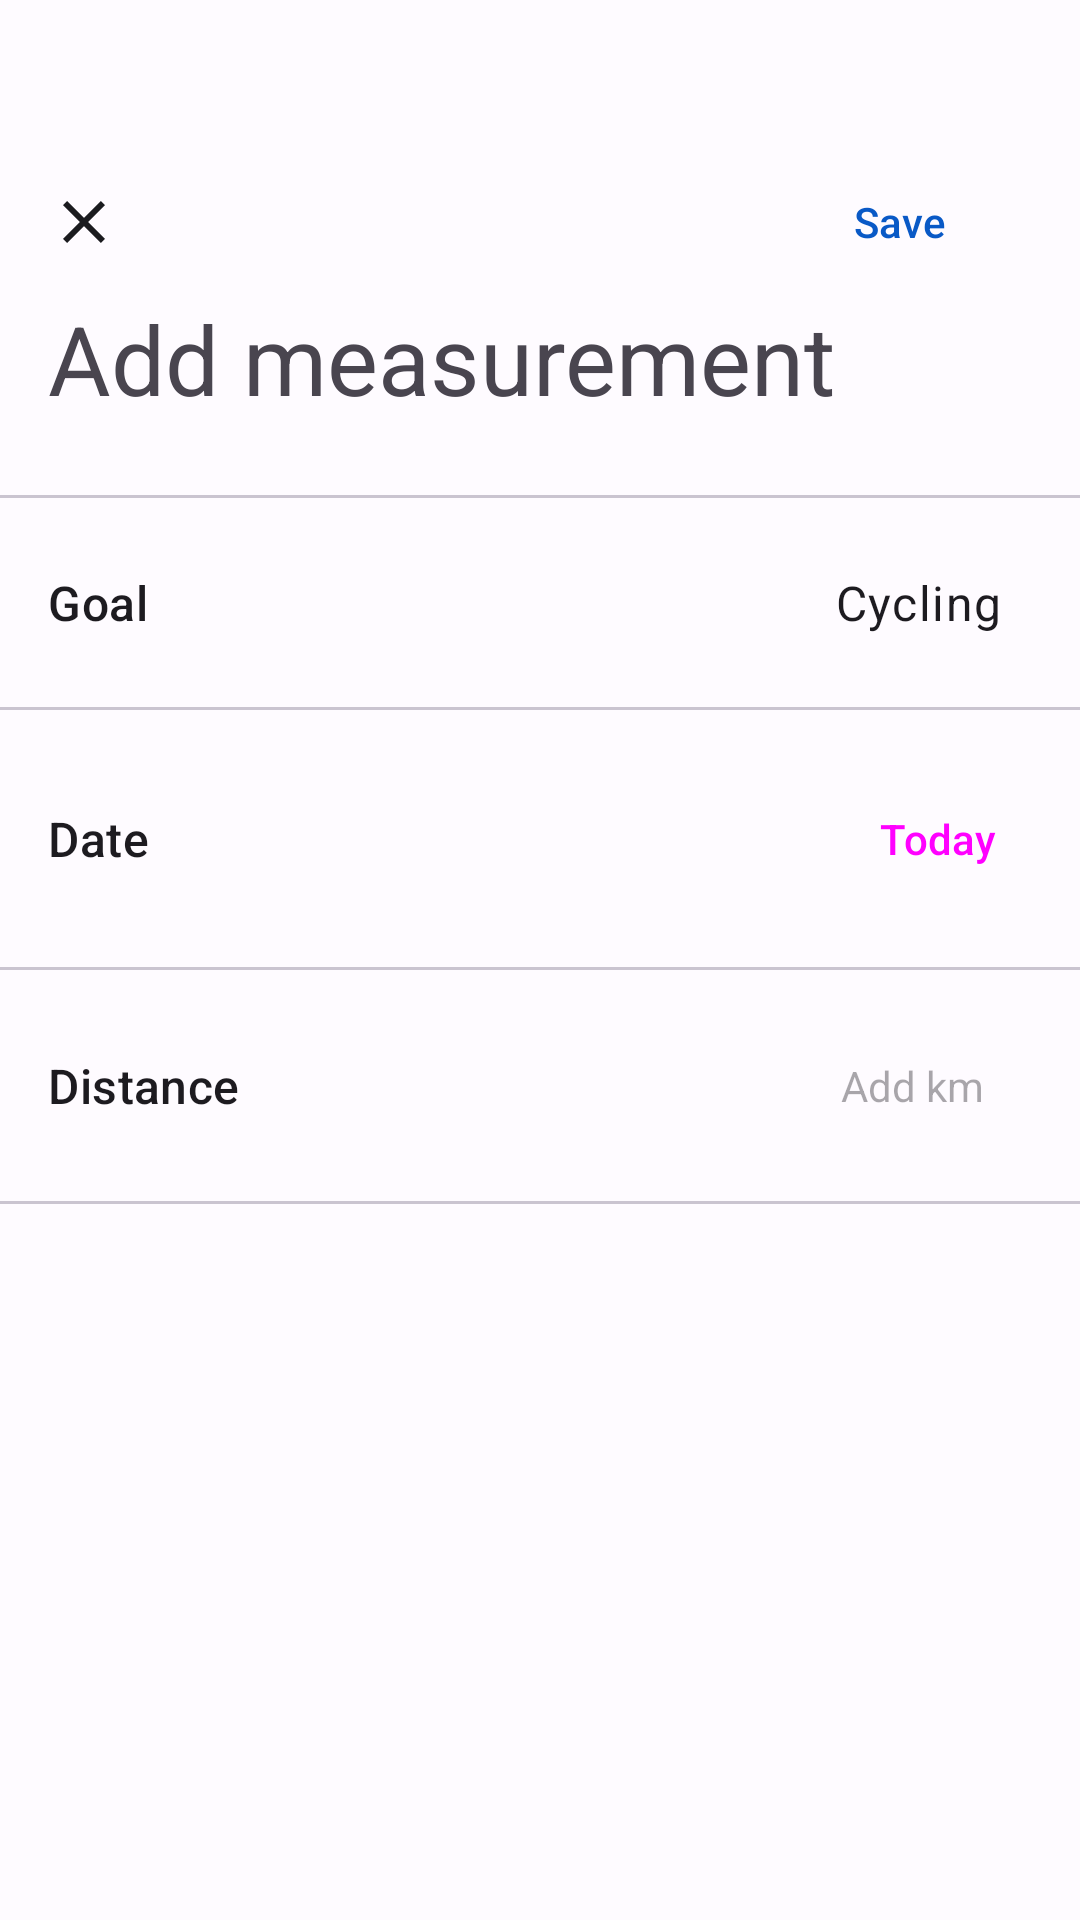

Named icons in this screenshot (1080 × 1920) and their bounding boxes, (x1, y1, x2, y2):
close: (63, 201, 105, 243)
